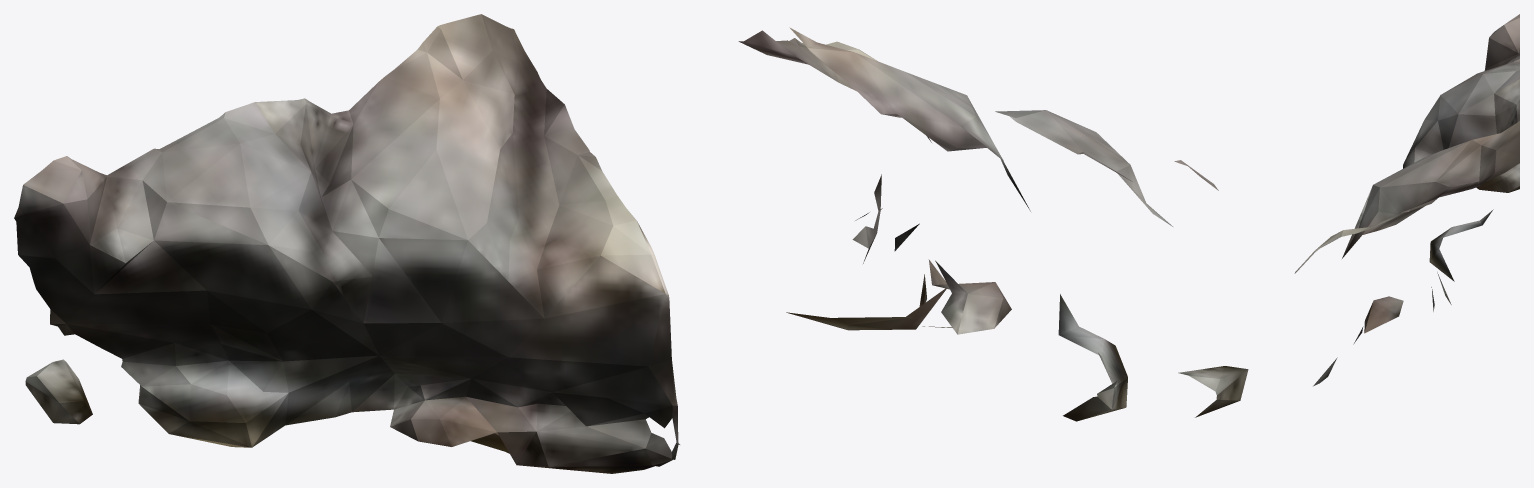
3 views of the same model, side by side, from view 1: azimuth 30°, elevation 25°; view 2: azimuth 150°, elevation 25°; view 3: azimuth 270°, elevation 25° (orthographic). The views are drawn at different scales.
Size of the model in its own units: 0.5704 by 0.4914 by 0.3302.
1 material, 1 textured.
